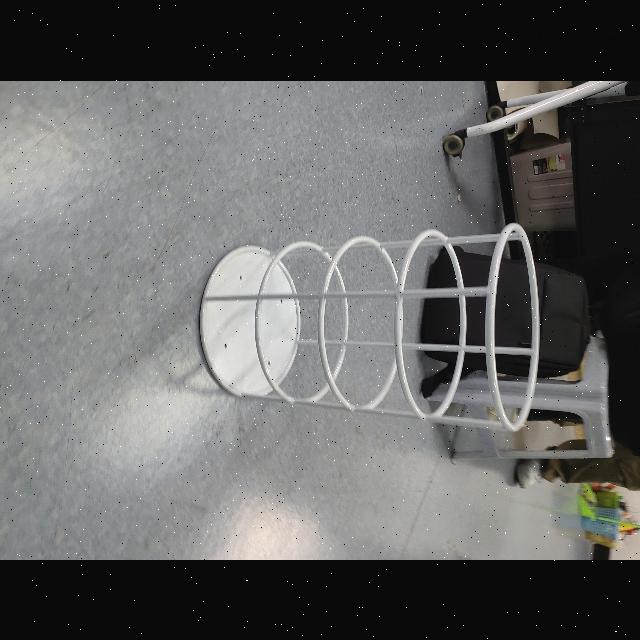S: (194, 220, 544, 434)
